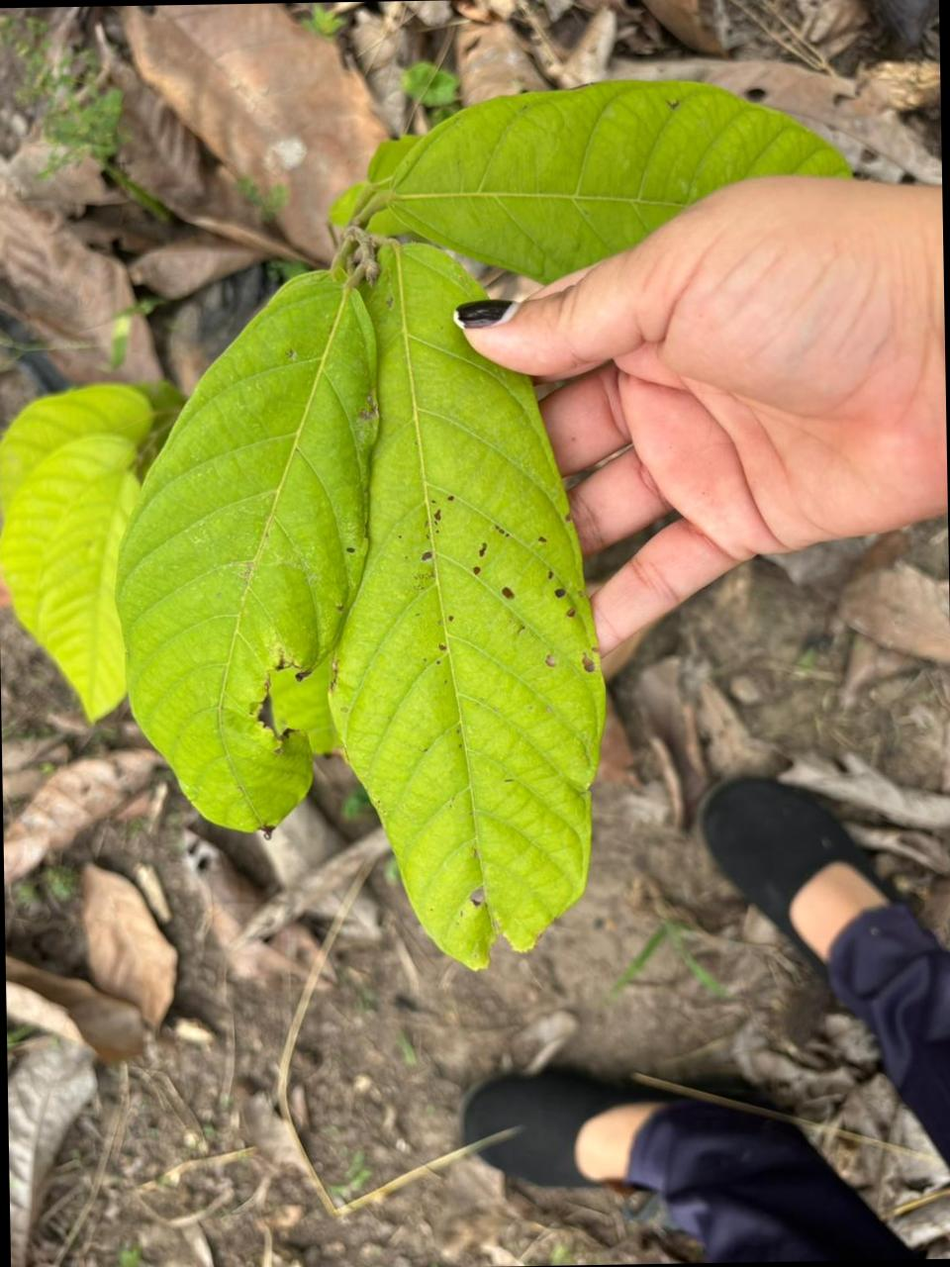Nitrogeno: (334, 247, 604, 965), (117, 272, 376, 829)
